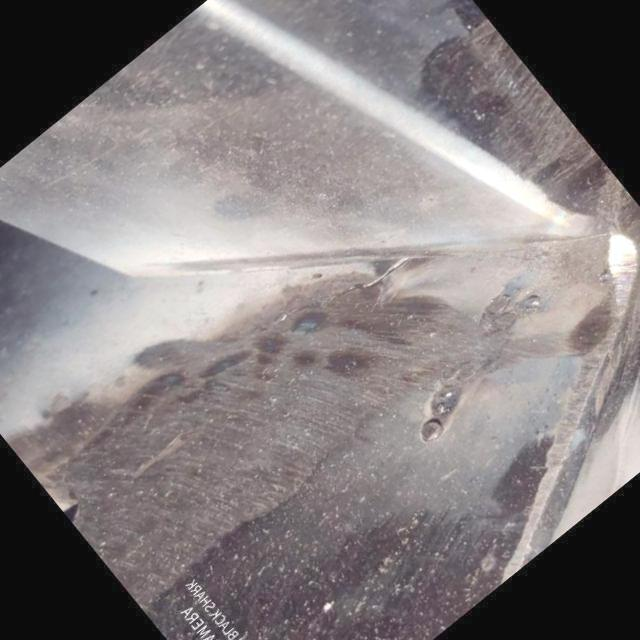defect: (270, 249, 416, 329)
